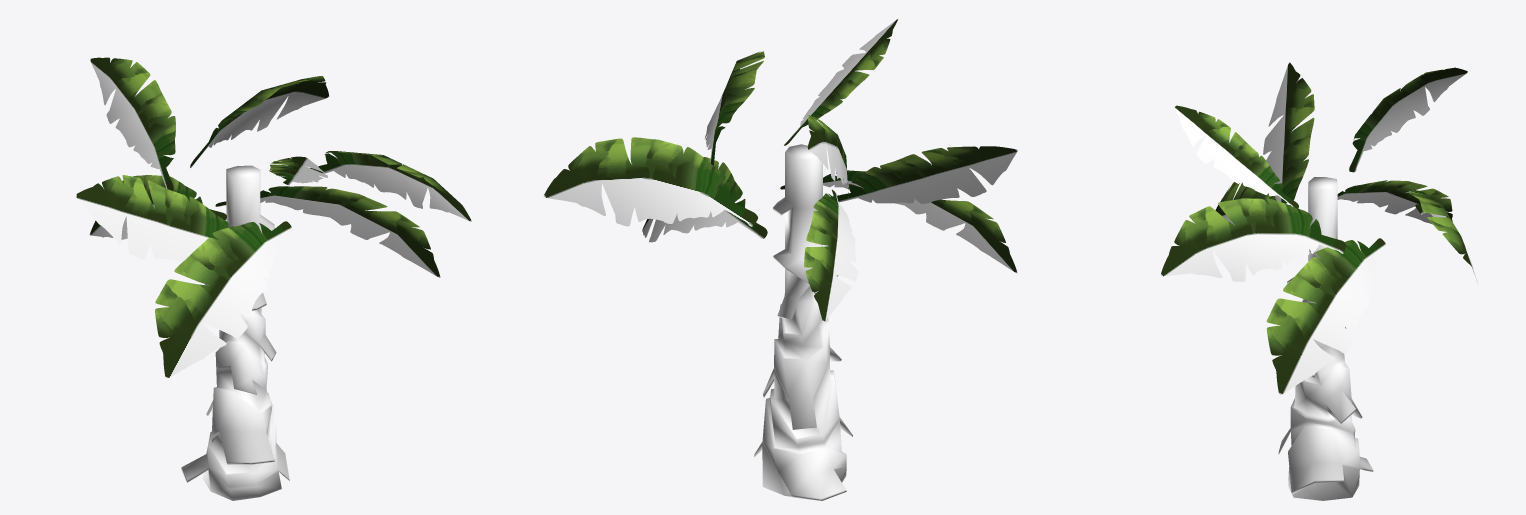
Rendered from palm_tree_02.FBX.
The picture shows the model from 3 angles, left to right: view 1: azimuth 30°, elevation 25°; view 2: azimuth 150°, elevation 25°; view 3: azimuth 270°, elevation 25°; orthographic projection. The views are drawn at different scales.
Visible parts, largest first — view 1: Object002; view 2: Object002; view 3: Object002.
Boxes of the visible parts, x1,y1,x2,y2 form: Object002: (75, 57, 471, 500); Object002: (543, 19, 1017, 500); Object002: (1160, 62, 1477, 500).
Bounding box in the file's own units: 2699 × 2550 × 2337.
